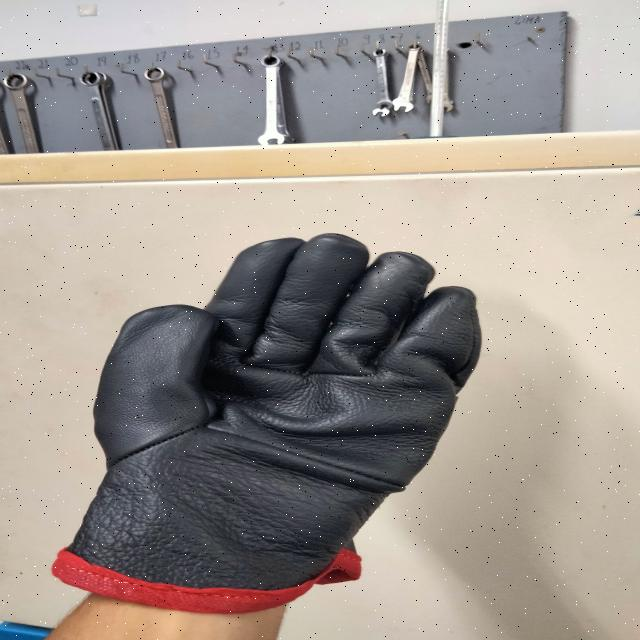Gloves: (72, 231, 489, 601)
